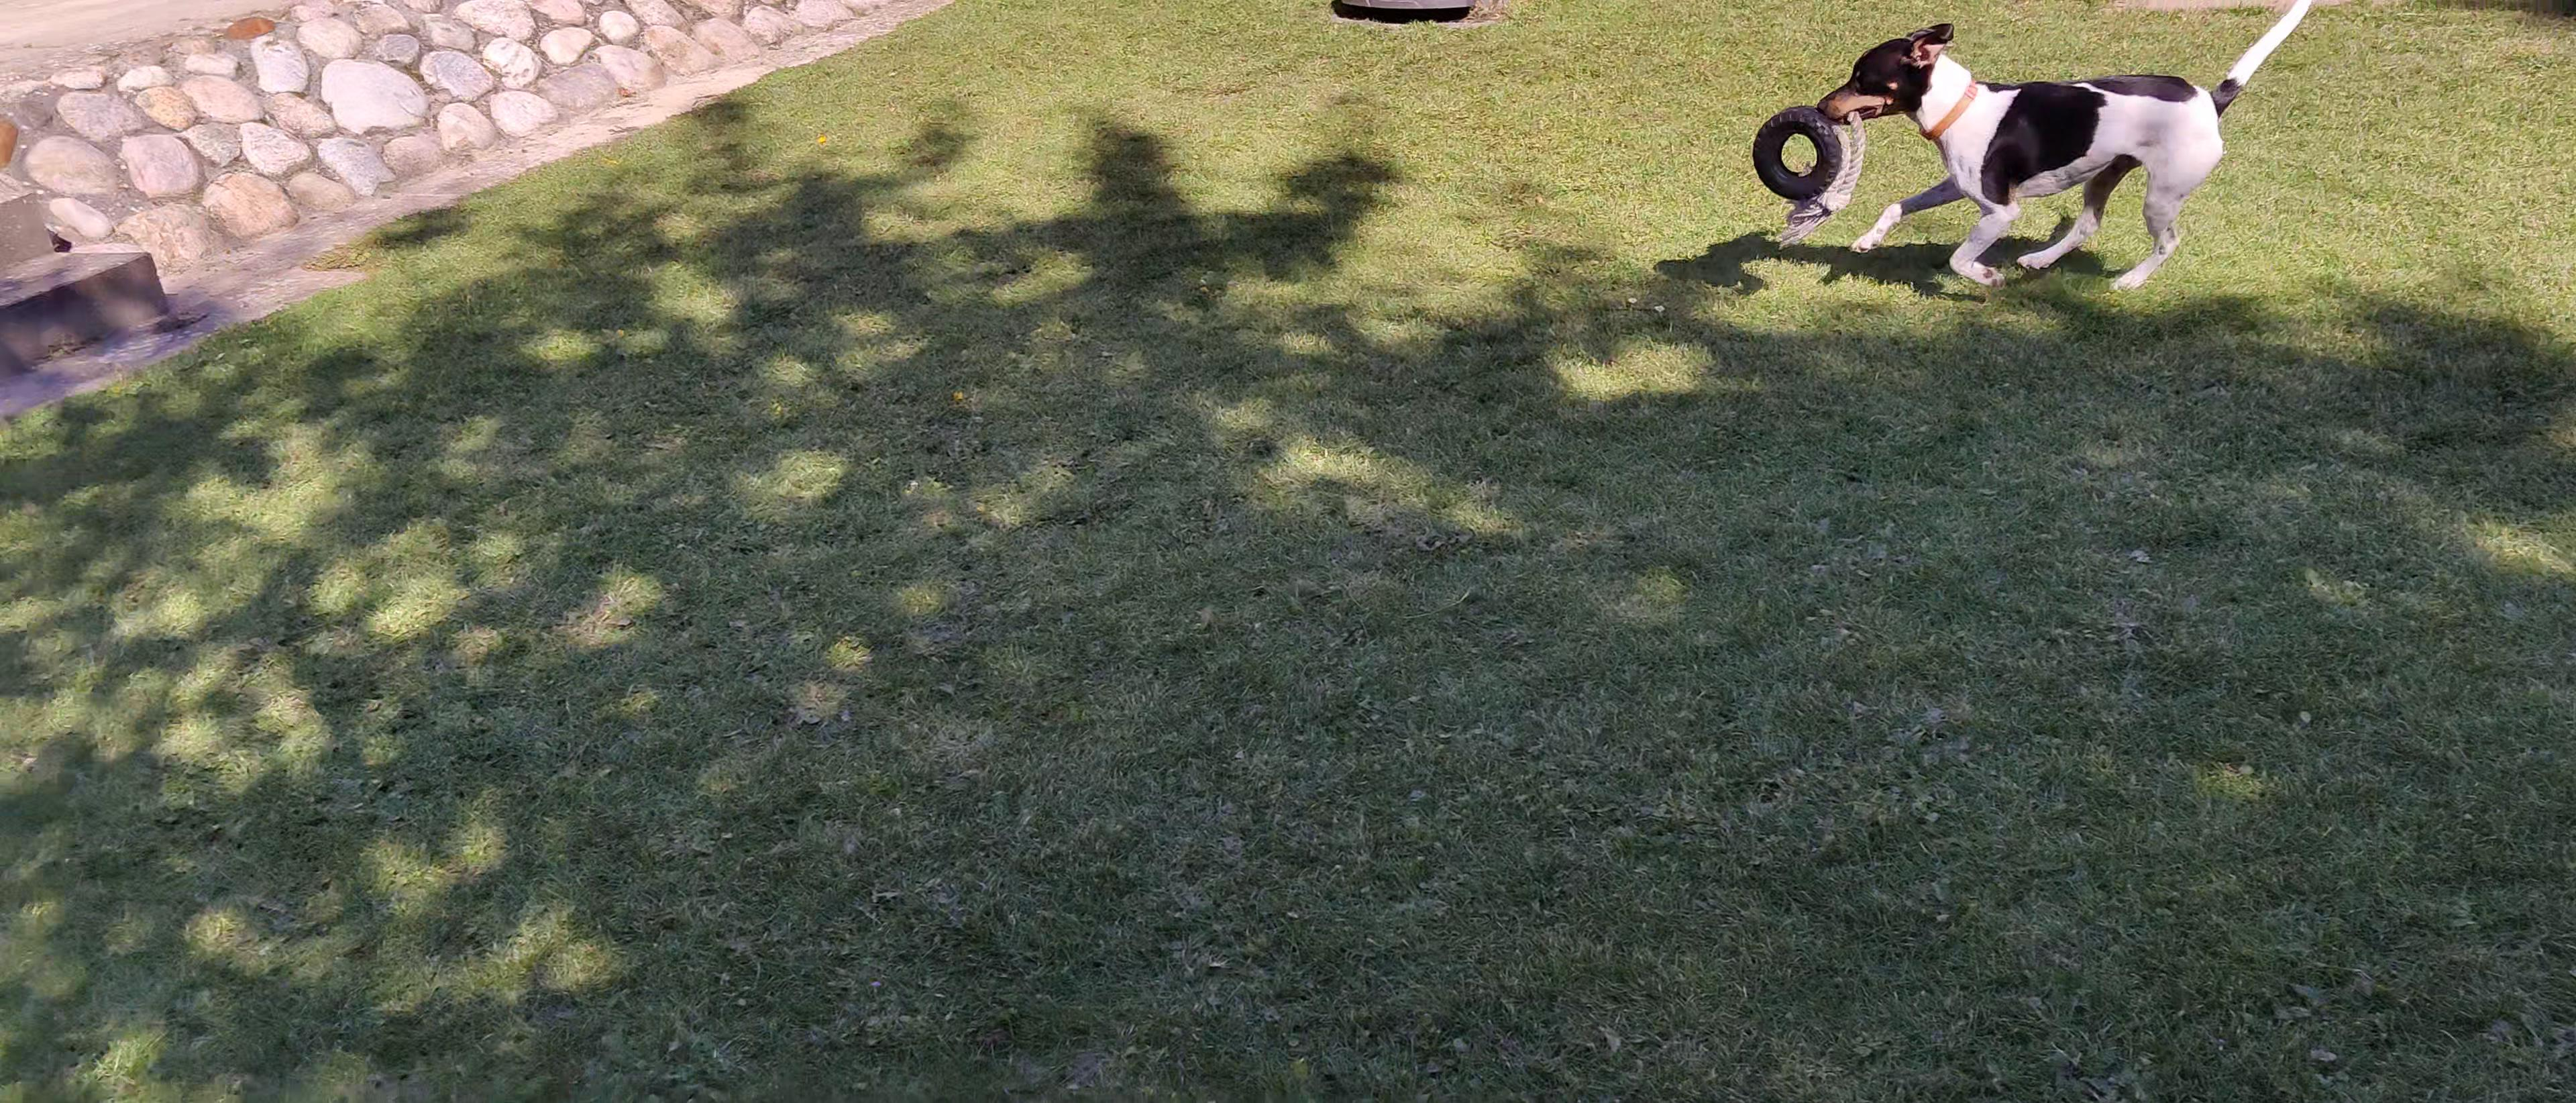Dog: (1801, 10, 2320, 302)
